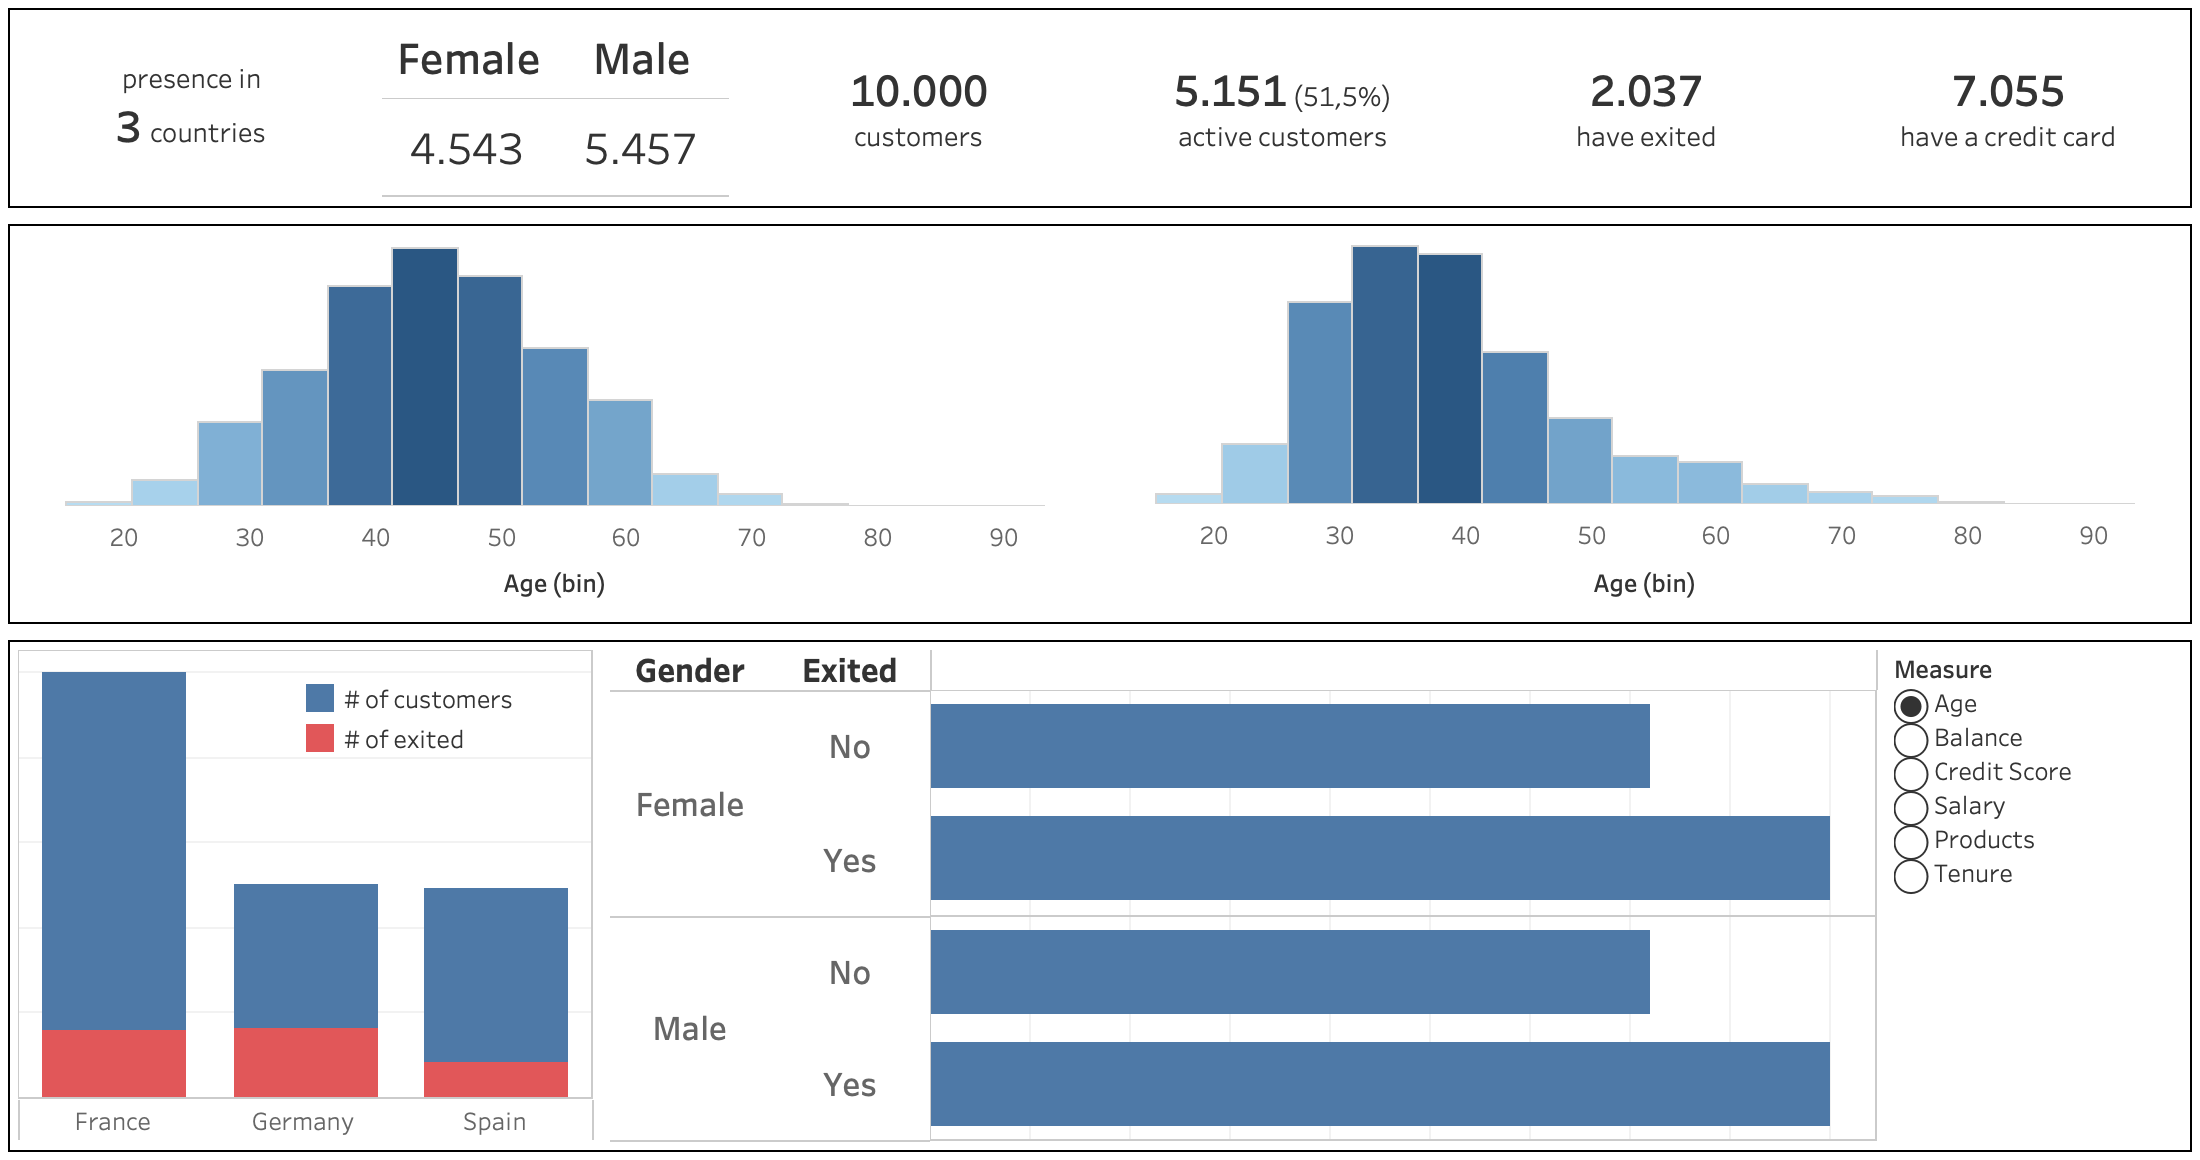

The page's visual inventory and layout, read from the dashboard file:
{"tool":"tableau","page":{"name":"Dashboard 1","canvas":[1100,580],"ordinal":0},"visuals":[{"type":"worksheet","title":"no of countries","mark":"Automatic","box":[5,5,182,98]},{"type":"worksheet","title":"gender","mark":"Automatic","cols":["Gender"],"box":[187,5,182,98]},{"type":"worksheet","title":"no of customer","mark":"Automatic","box":[369,5,182,98]},{"type":"worksheet","title":"active","mark":"Automatic","box":[551,5,182,98]},{"type":"worksheet","title":"exited","mark":"Automatic","box":[733,5,181,98]},{"type":"worksheet","title":"credit card","mark":"Automatic","box":[914,5,181,98]},{"type":"worksheet","title":"age vs exited","mark":"Automatic","rows":["Exited"],"cols":["Age (bin)"],"box":[5,113,545,198]},{"type":"worksheet","title":"age dist","mark":"Automatic","rows":["Age"],"cols":["Age (bin)"],"box":[550,113,545,198]},{"type":"worksheet","title":"geography","mark":"Bar","rows":["churn modelling.csv_B7C7C1E16BDA42CB897CF18C0284B247","Exited"],"cols":["Geography"],"box":[5,321,296,254]},{"type":"worksheet","title":"parameter","mark":"Automatic","rows":["Gender","Exited"],"cols":["Calculation_4100316405261606913"],"box":[301,321,642,254]},{"type":"parameter","param":"[Parameters].[Parameter 1]","box":[943,321,152,254]},{"type":"legend","title":"geography","param":"[federated.0ldh0rn0apmpem15sxxi51o0qx8h].[:Measure Names]","box":[150,339,140,58]}]}

Visuals, with their boxes in screenshot pixels (x1, y1, x2, y2), scaled from the page's 1100x580 canvas onto the 2200x1160 screenshot:
"no of countries" worksheet: x1=10, y1=10, x2=374, y2=206
"gender" worksheet: x1=374, y1=10, x2=738, y2=206
"no of customer" worksheet: x1=738, y1=10, x2=1102, y2=206
"active" worksheet: x1=1102, y1=10, x2=1466, y2=206
"exited" worksheet: x1=1466, y1=10, x2=1828, y2=206
"credit card" worksheet: x1=1828, y1=10, x2=2190, y2=206
"age vs exited" worksheet: x1=10, y1=226, x2=1100, y2=622
"age dist" worksheet: x1=1100, y1=226, x2=2190, y2=622
"geography" worksheet (Bar marks): x1=10, y1=642, x2=602, y2=1150
"parameter" worksheet: x1=602, y1=642, x2=1886, y2=1150
parameter: x1=1886, y1=642, x2=2190, y2=1150
"geography" legend: x1=300, y1=678, x2=580, y2=794
